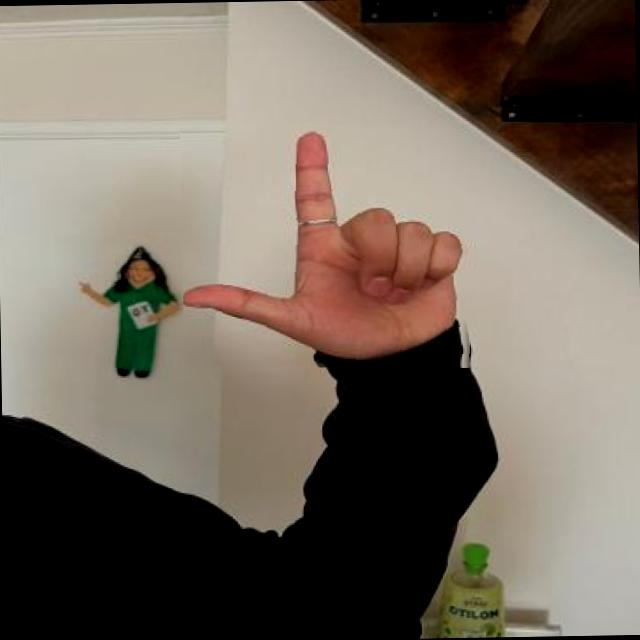L: (180, 124, 478, 373)
